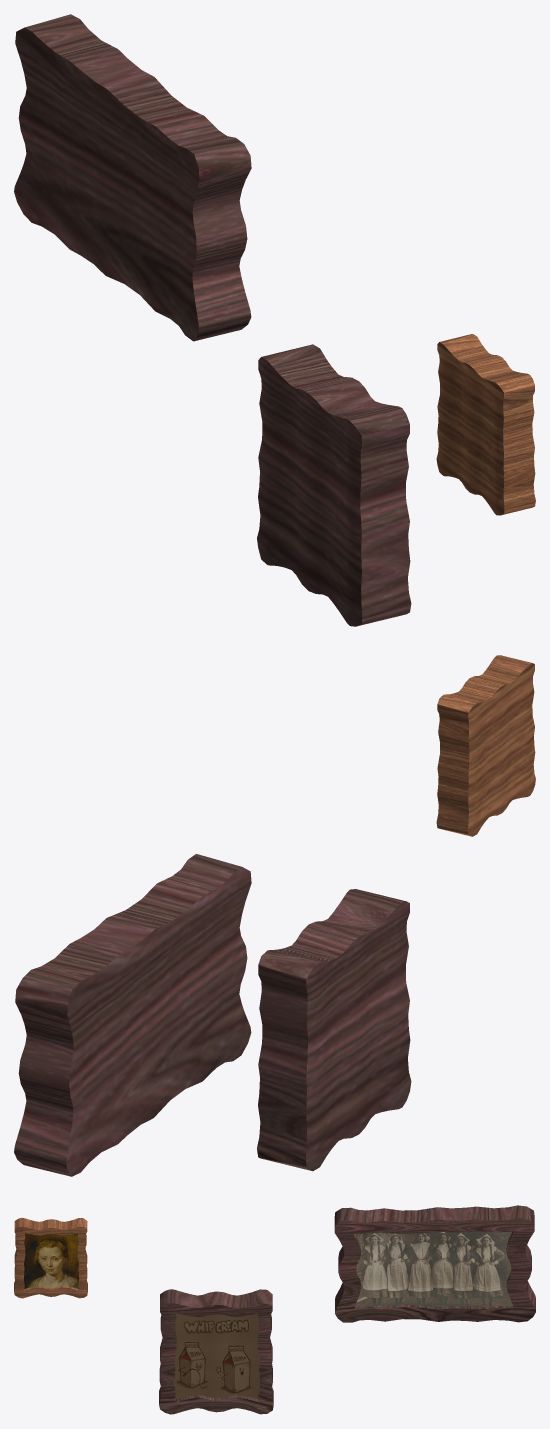
File: picframes1.fbx
3 renders of one model, top to bottom at view 1: azimuth 30°, elevation 25°; view 2: azimuth 150°, elevation 25°; view 3: azimuth 270°, elevation 25°, orthographic. The views are drawn at different scales.
Visible parts, largest first — view 1: polySurface1; view 2: polySurface1; view 3: polySurface1.
Boxes of the visible parts, left/top/right/bottom form: polySurface1: left=14, top=14, right=535, bottom=626; polySurface1: left=14, top=655, right=535, bottom=1176; polySurface1: left=14, top=1205, right=535, bottom=1414.
Bounding box in the file's own units: 0.5795 × 3.73 × 9.02.
